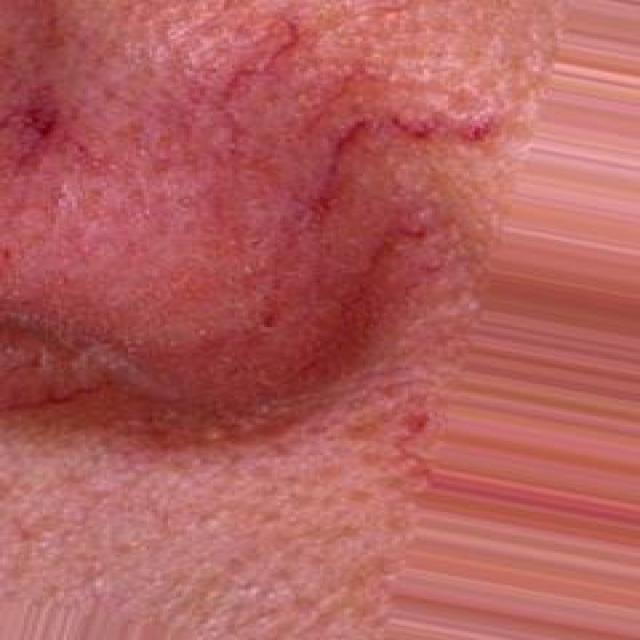Rosacea: (0, 11, 488, 371)
